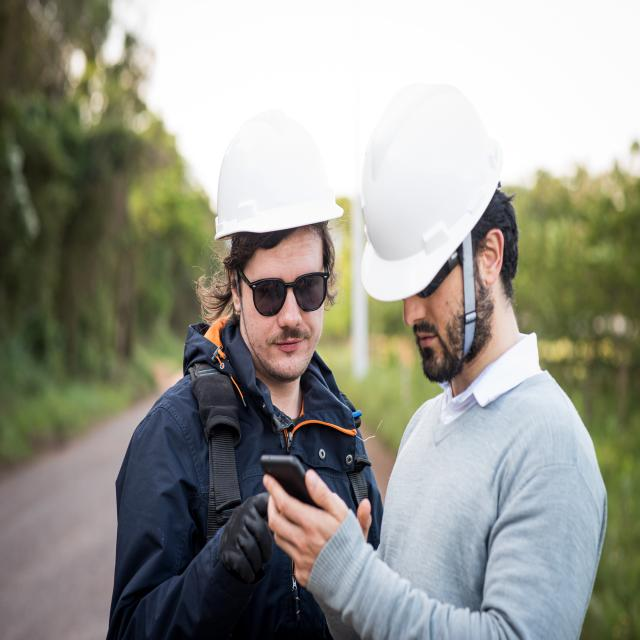capacete: (358, 80, 504, 303), (213, 106, 344, 239)
luva: (220, 487, 278, 586)
